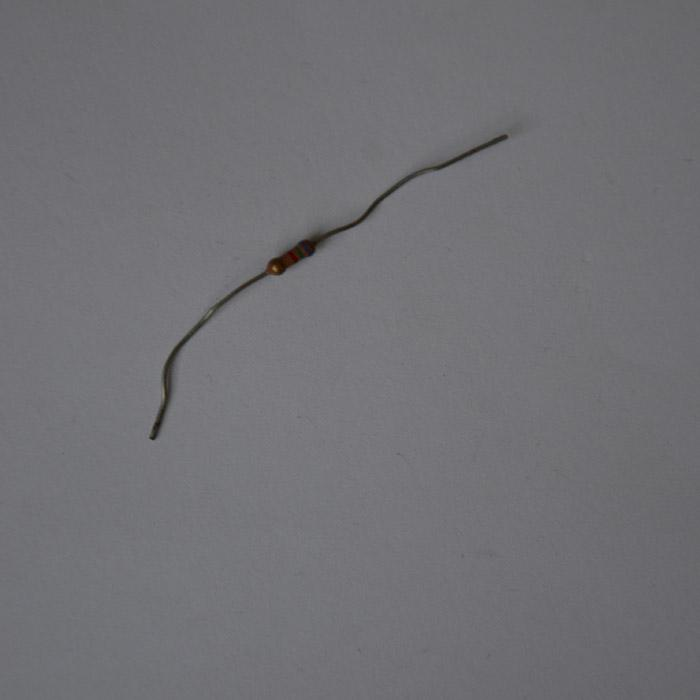resistor: (265, 238, 316, 275)
